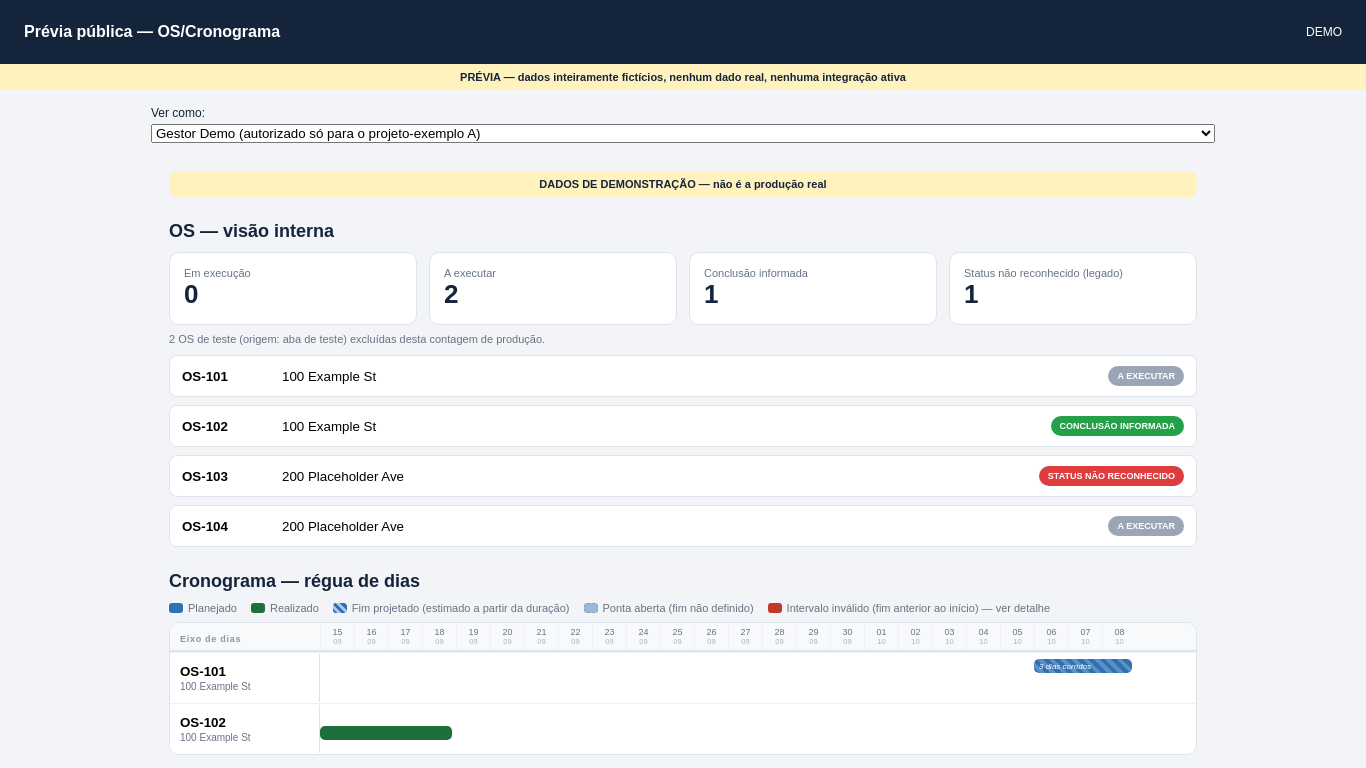
Test: PreviaDemo — ControladorDeSequencia integrado ao fluxo real (não só testado isolado) › troca de "Ver como" limpa a tela IMEDIATAMENTE (nunca mantém o dado do usuário anterior visível)
This screenshot has width=1366, height=768.
Select "Gestor sem configuração (sem vínculo de autorização — deve bloquear)" in the dropdown labelled "Ver como:": (683, 134) [151,124,1215,143]
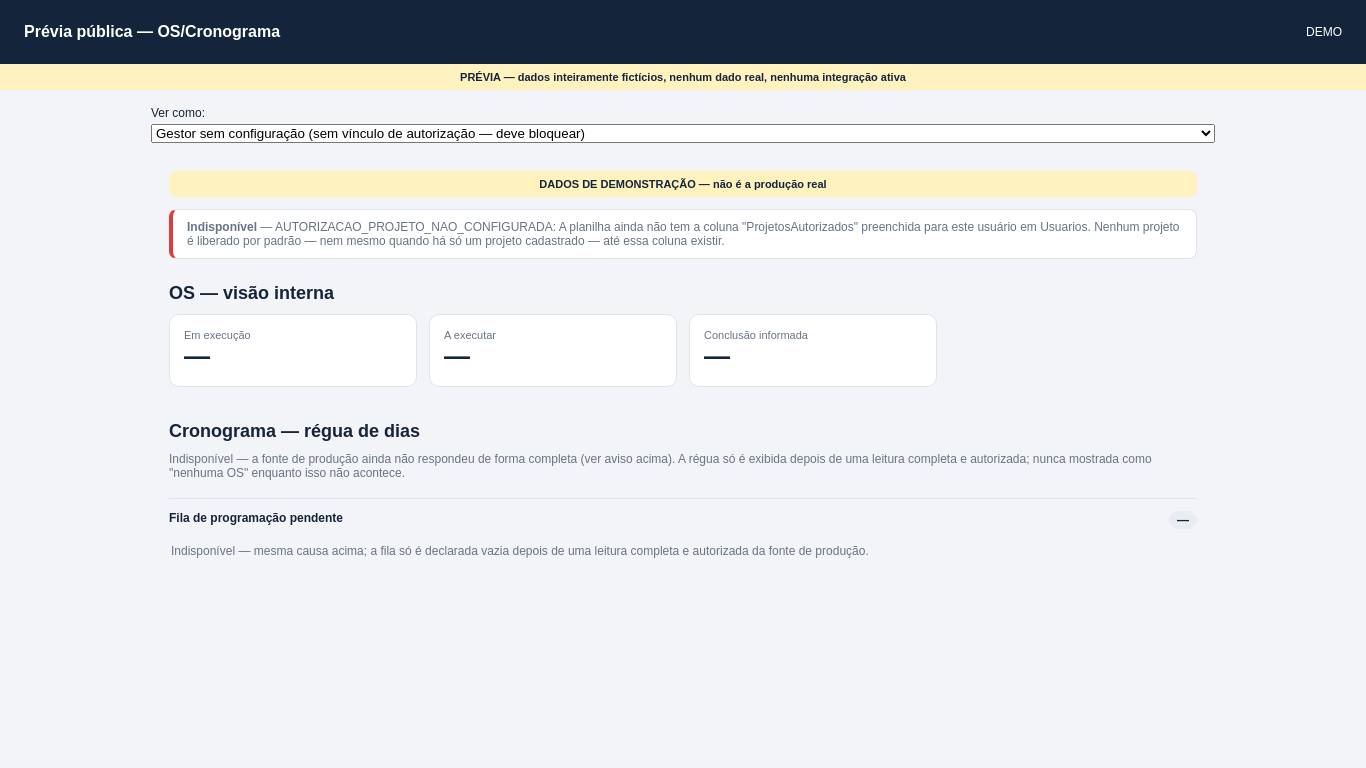
Now no buttons "OS-101" are shown
